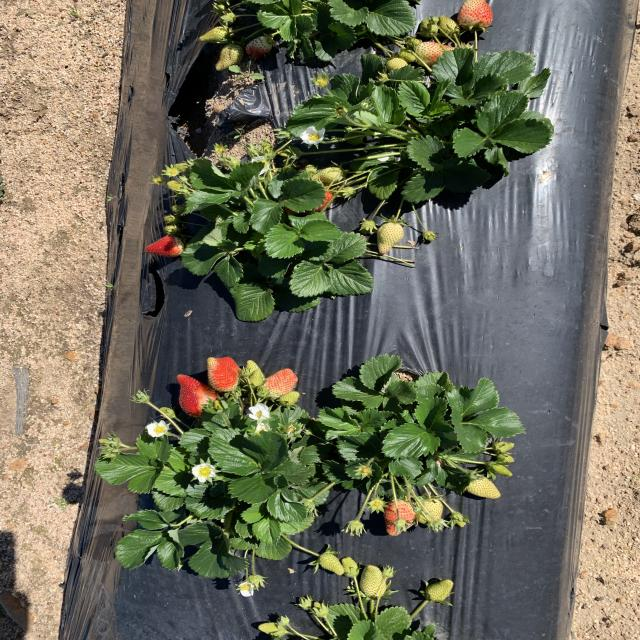unripe: (174, 374, 222, 416), (282, 187, 336, 213), (144, 232, 188, 256)
